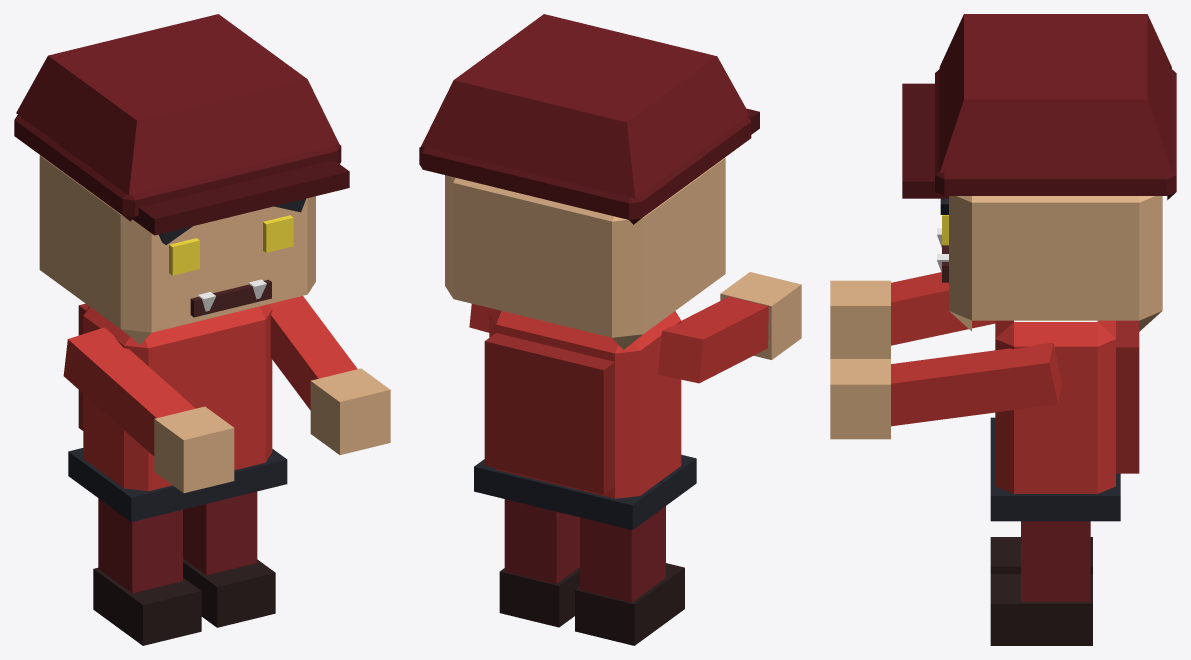
File: grunt.glb
The picture shows the model from 3 angles, left to right: view 1: azimuth 30°, elevation 25°; view 2: azimuth 150°, elevation 25°; view 3: azimuth 270°, elevation 25°; orthographic projection. The views are drawn at different scales.
Parts seen in each view (by area): view 1: grunt_mesh; view 2: grunt_mesh; view 3: grunt_mesh.
Part boxes in pixels (<box>): grunt_mesh: <box>14,14,390,645</box>; grunt_mesh: <box>419,14,801,645</box>; grunt_mesh: <box>830,14,1176,645</box>.
Size of the model in its own units: 0.6586 by 1.5 by 0.8466.
Materials: 1 (1 with a texture image).
